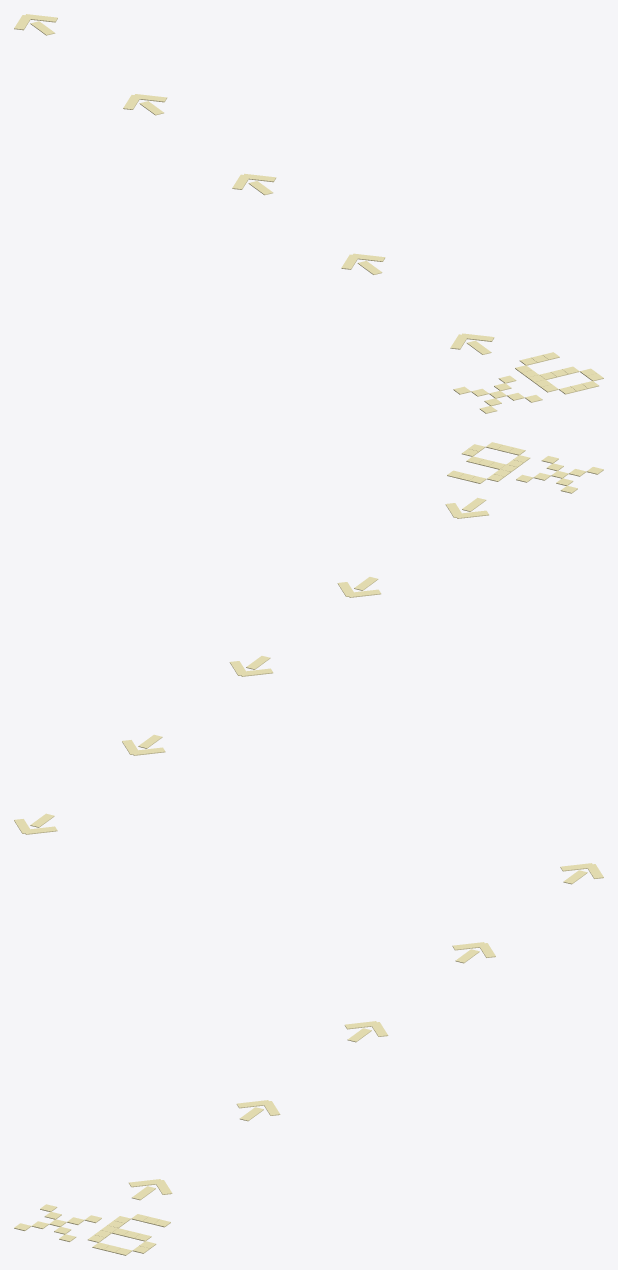
File: espacio_Marcas.glb
3 renders of one model, top to bottom at view 1: azimuth 30°, elevation 25°; view 2: azimuth 150°, elevation 25°; view 3: azimuth 330°, elevation 25°, orthographic.
Parts seen in each view (by area): view 1: Mapa_espacio_Marcas; view 2: Mapa_espacio_Marcas; view 3: Mapa_espacio_Marcas.
Boxes of the visible parts, x1,y1,x2,y2 form: Mapa_espacio_Marcas: (14, 14, 603, 413); Mapa_espacio_Marcas: (14, 442, 603, 834); Mapa_espacio_Marcas: (14, 863, 603, 1255).
Bounding box in the file's own units: 39.53 × 0.24 × 288.
Materials: 1 (1 with a texture image).
